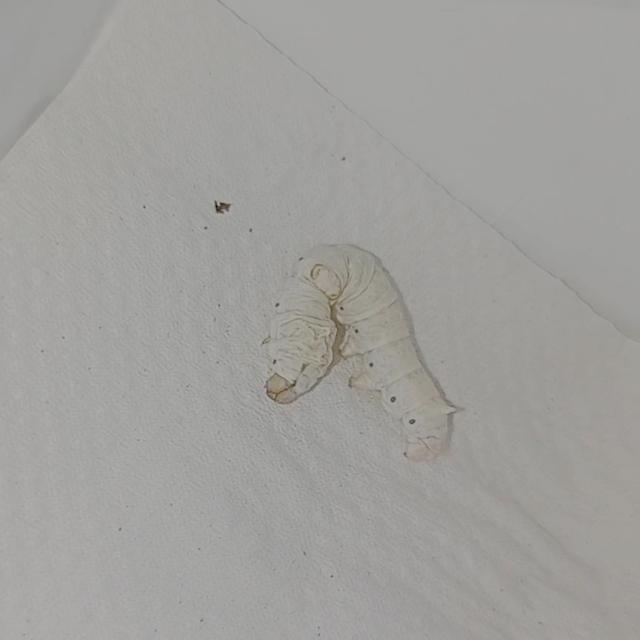Healthy: (237, 216, 514, 474)
